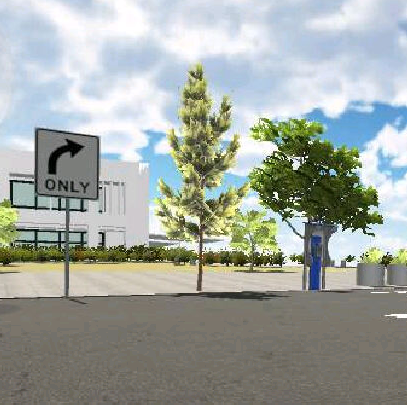turn_right: (45, 138, 85, 175)
